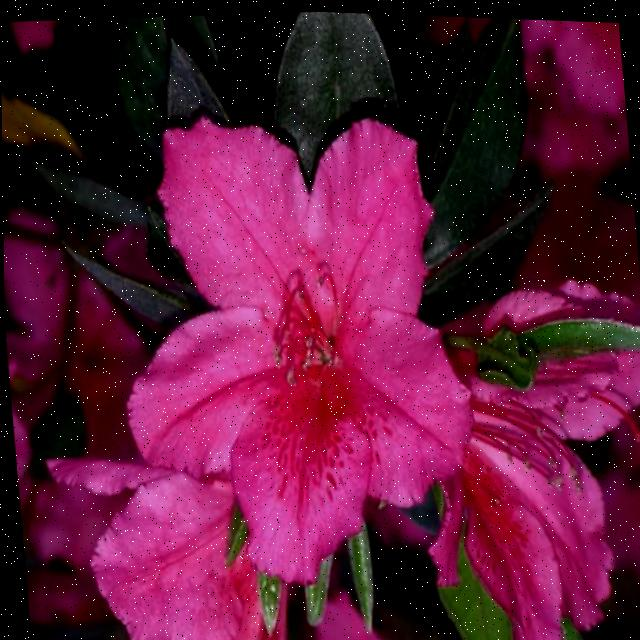azalea: (124, 101, 478, 546), (393, 256, 640, 620)
